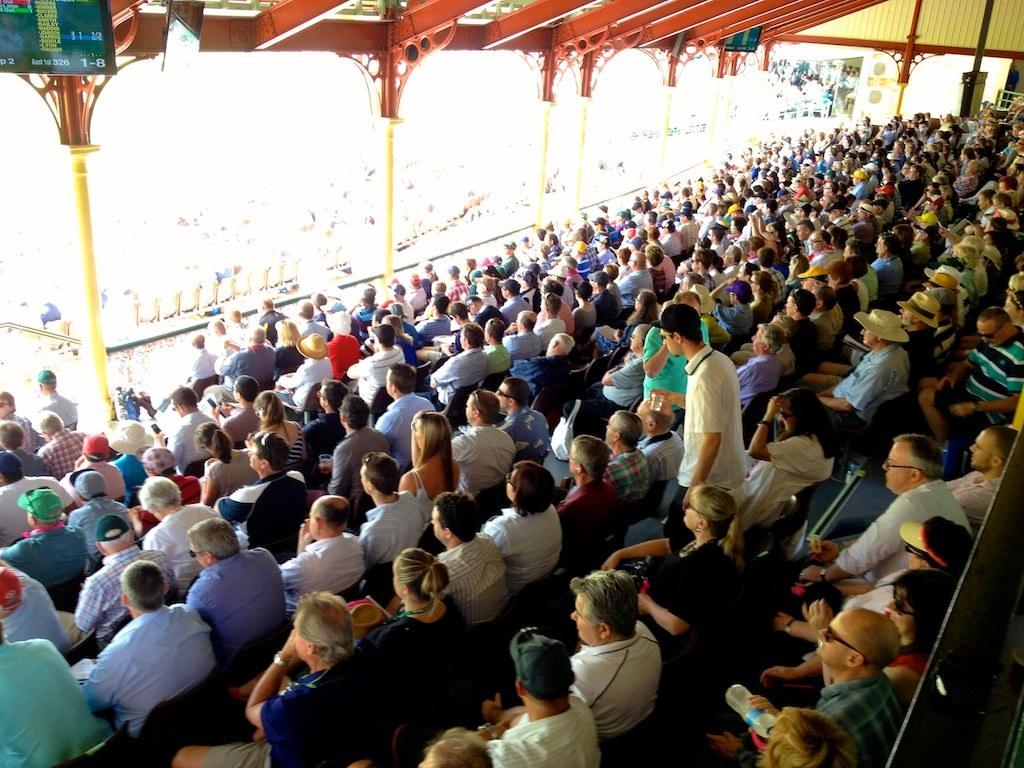Sem Máscara: (247, 115, 1020, 668), (0, 399, 5, 419)
